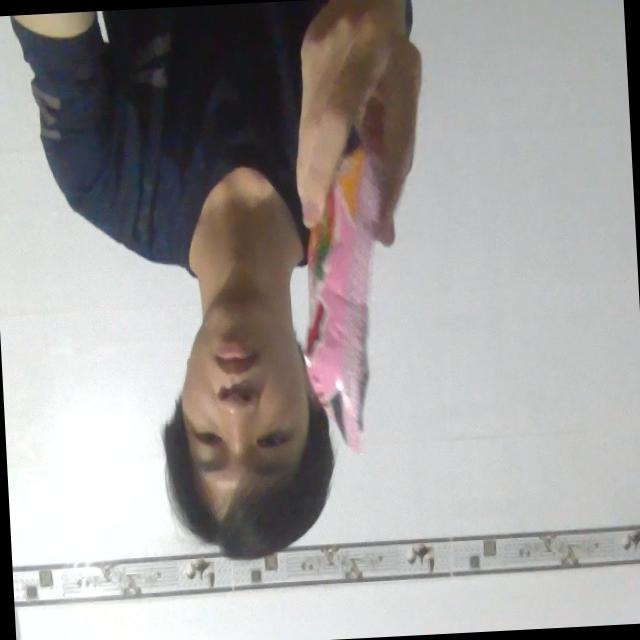mi hao hao: (270, 109, 418, 463)
